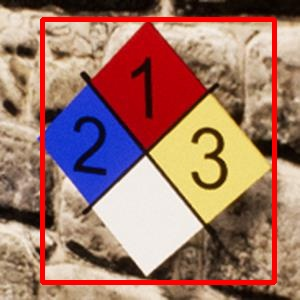nfpa: (42, 19, 274, 282)
